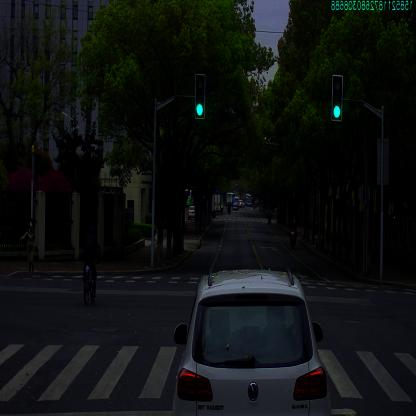traffic-light: (332, 75, 342, 120), (195, 74, 205, 119)
